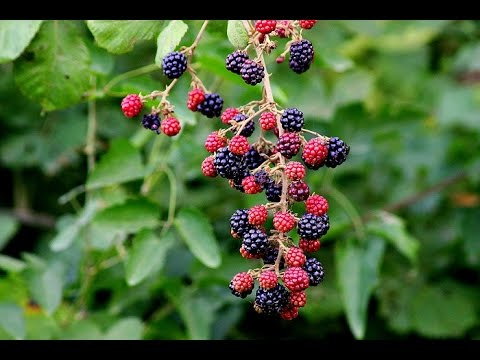Blackberry: (160, 52, 189, 80), (302, 139, 329, 165), (240, 230, 268, 255), (278, 107, 305, 132), (240, 59, 265, 84), (281, 268, 308, 290), (291, 40, 313, 66), (304, 192, 329, 214)
